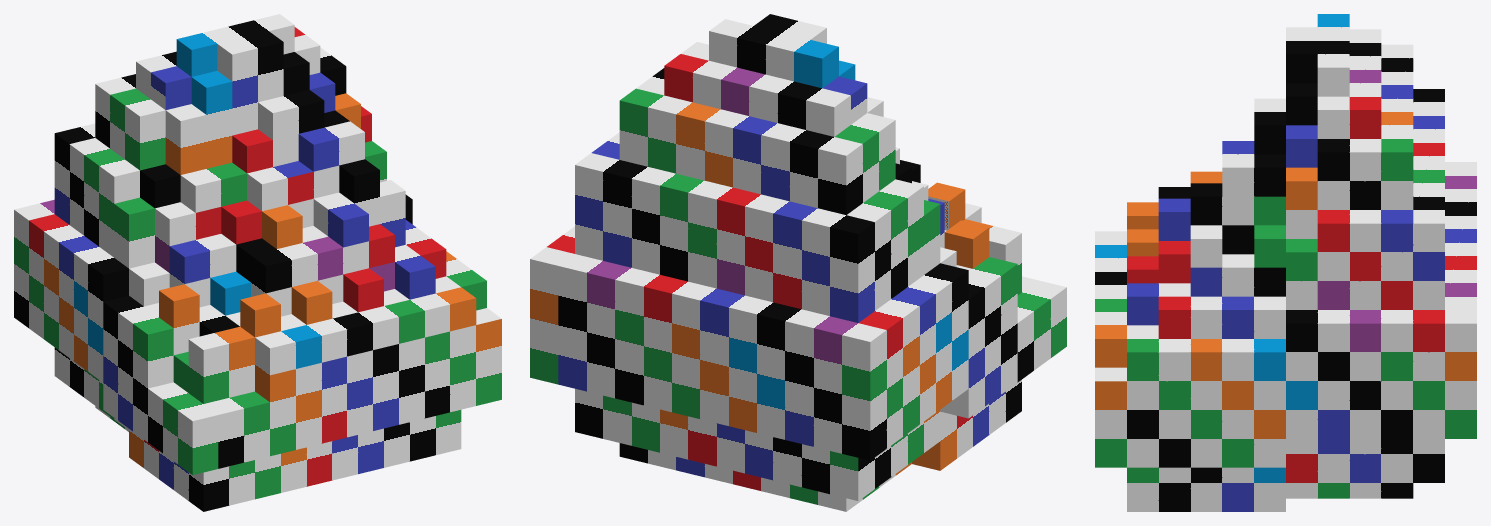
Rendered from smash3a.obj.
3 views of the same model, side by side, from view 1: azimuth 30°, elevation 25°; view 2: azimuth 150°, elevation 25°; view 3: azimuth 270°, elevation 25° (orthographic). The views are drawn at different scales.
Parts seen in each view (by area): view 1: smash2; view 2: smash2; view 3: smash2.
Boxes of the visible parts, x1,y1,x2,y2 form: smash2: (14, 14, 501, 511); smash2: (530, 14, 1066, 511); smash2: (1095, 14, 1476, 511).
Bounding box in the file's own units: 0.75 × 0.875 × 0.75.
